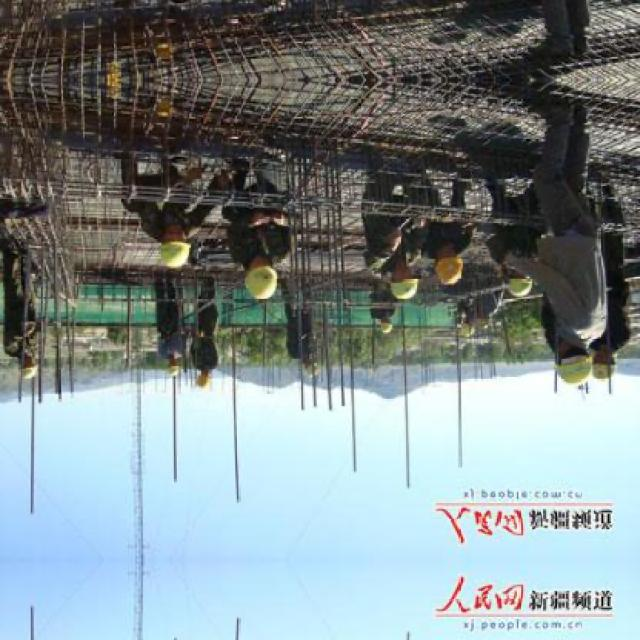con casco: (518, 325, 601, 385), (241, 248, 291, 316), (356, 265, 424, 314), (148, 226, 204, 280), (420, 250, 470, 290)
